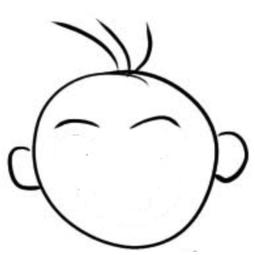ear: (211, 127, 251, 182), (4, 145, 43, 192)
eyebrow: (128, 113, 182, 132), (48, 117, 103, 132)
